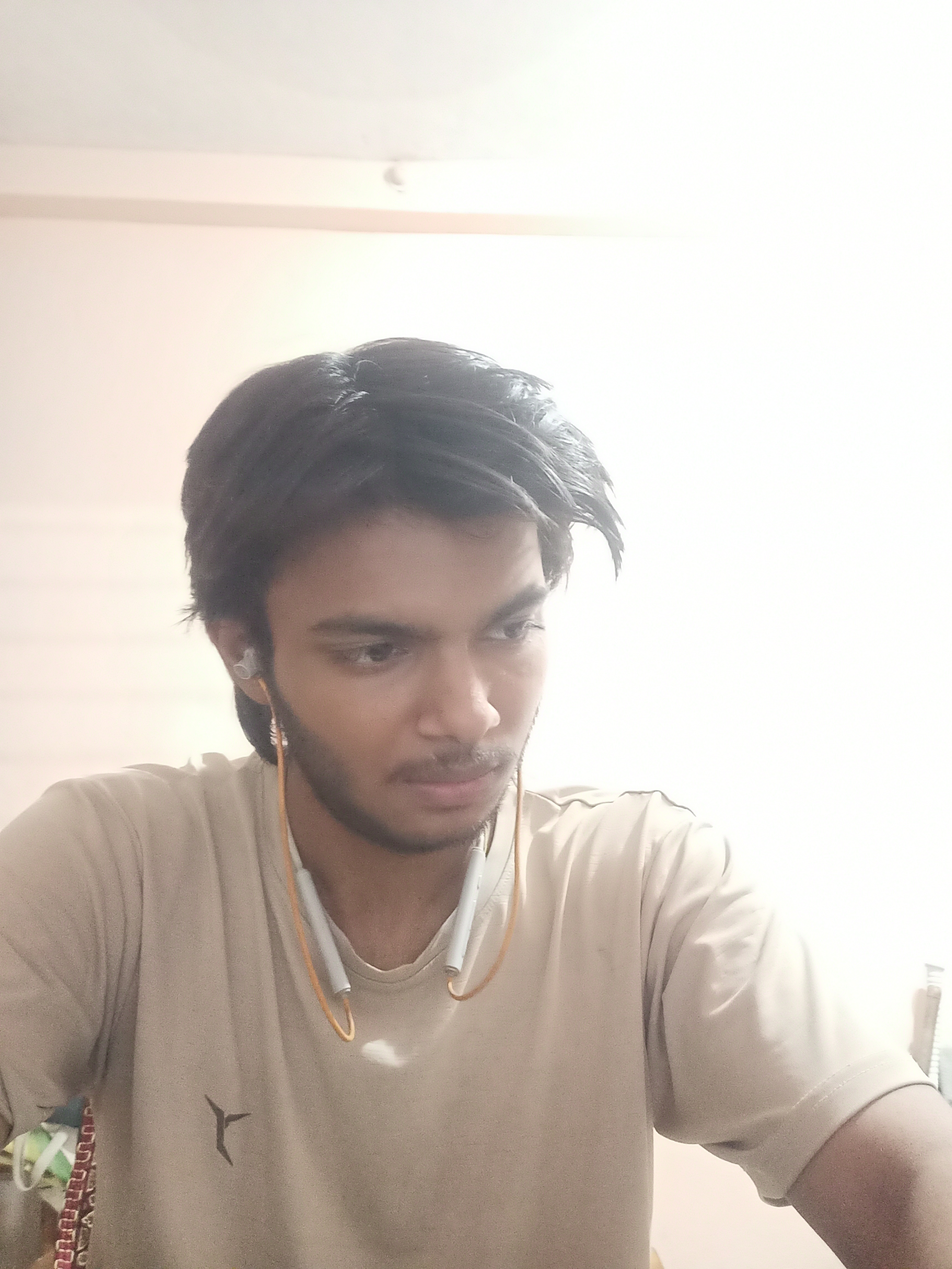distracted: (168, 316, 627, 894)
